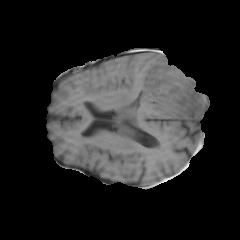glioma: (138, 59, 206, 119)
